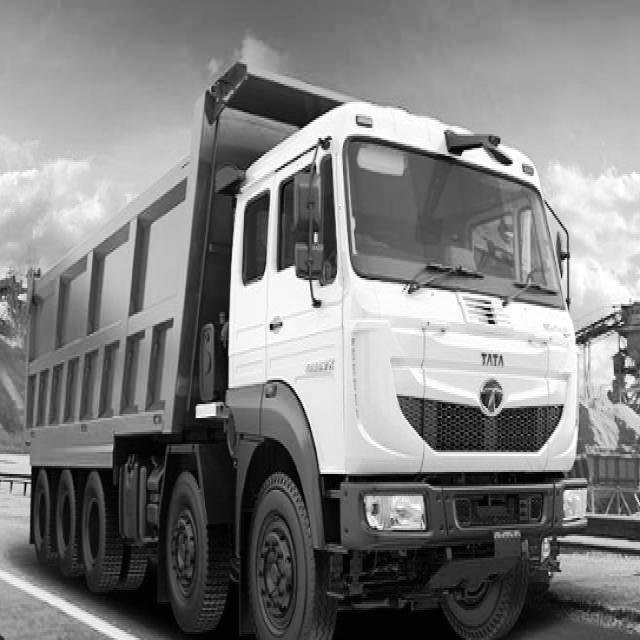HCV: (21, 40, 593, 638)
